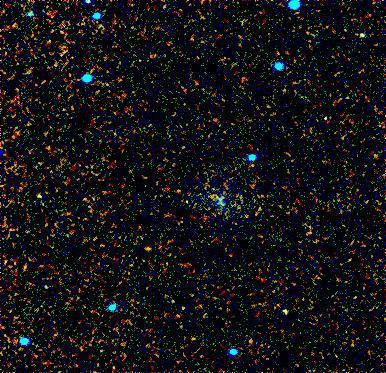star: (132, 237, 162, 267)
